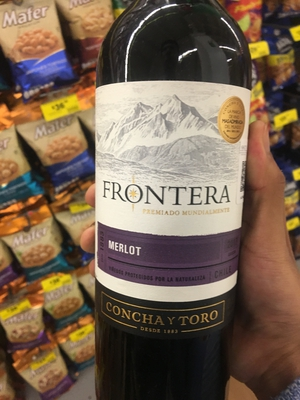frontera merlot: (88, 9, 258, 394)
